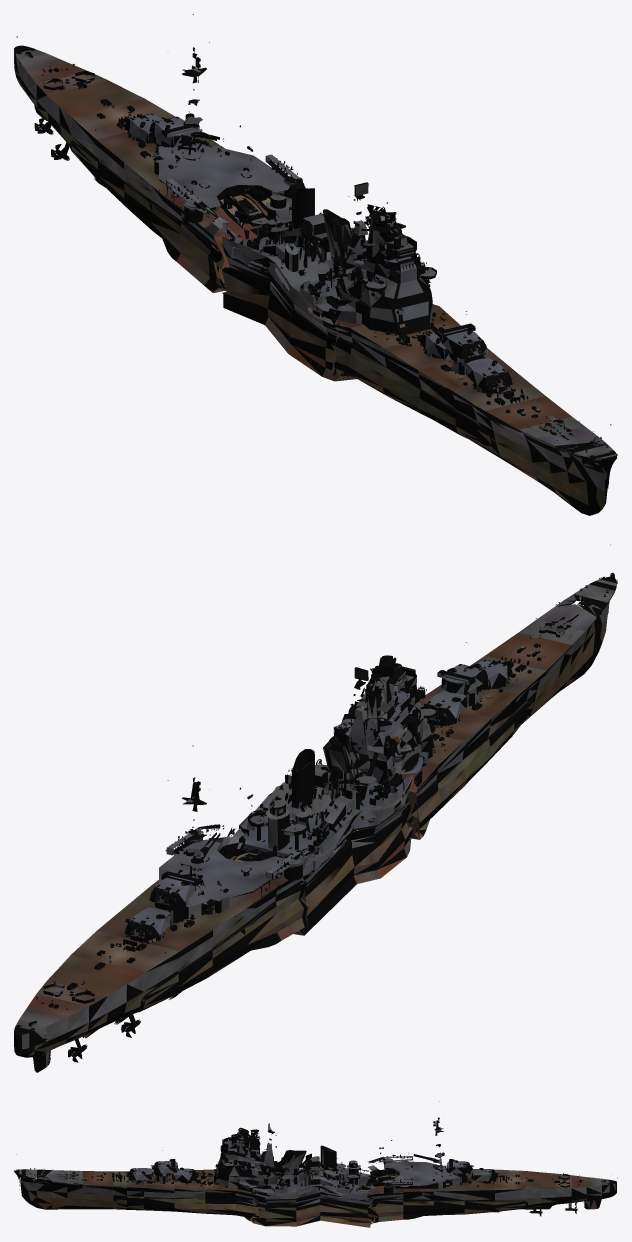
The model's file is atago-wreck.glb.
3 renders of one model, top to bottom at view 1: azimuth 30°, elevation 25°; view 2: azimuth 150°, elevation 25°; view 3: azimuth 270°, elevation 25°, orthographic. The views are drawn at different scales.
Parts seen in each view (by area): view 1: wreck_stern, wreck_bow, wreck_mid; view 2: wreck_bow, wreck_stern, wreck_mid; view 3: wreck_stern, wreck_bow, wreck_mid.
Part boxes in pixels (<box>): wreck_stern: <box>328,202,617,515</box>; wreck_bow: <box>14,14,305,293</box>; wreck_mid: <box>221,182,378,381</box>; wreck_bow: <box>14,745,310,1072</box>; wreck_stern: <box>341,544,617,839</box>; wreck_mid: <box>227,667,412,935</box>; wreck_stern: <box>14,1127,258,1221</box>; wreck_bow: <box>367,1101,617,1223</box>; wreck_mid: <box>252,1123,372,1227</box>.
Size of the model in its own units: 15.36 by 29.77 by 136.
Materials: 2 (1 with a texture image).
